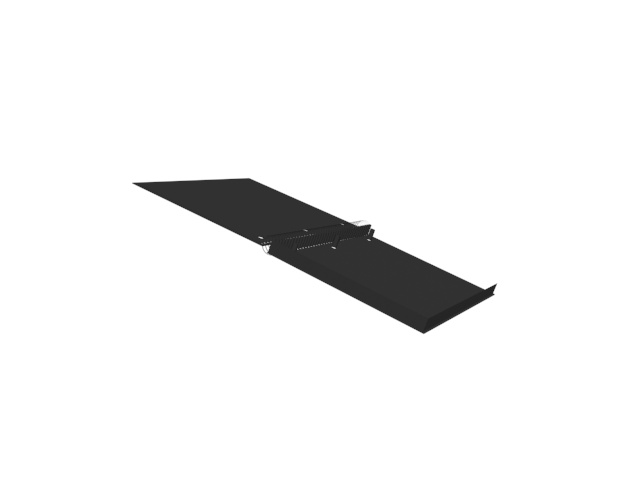paper_notebook: (129, 177, 504, 336)
